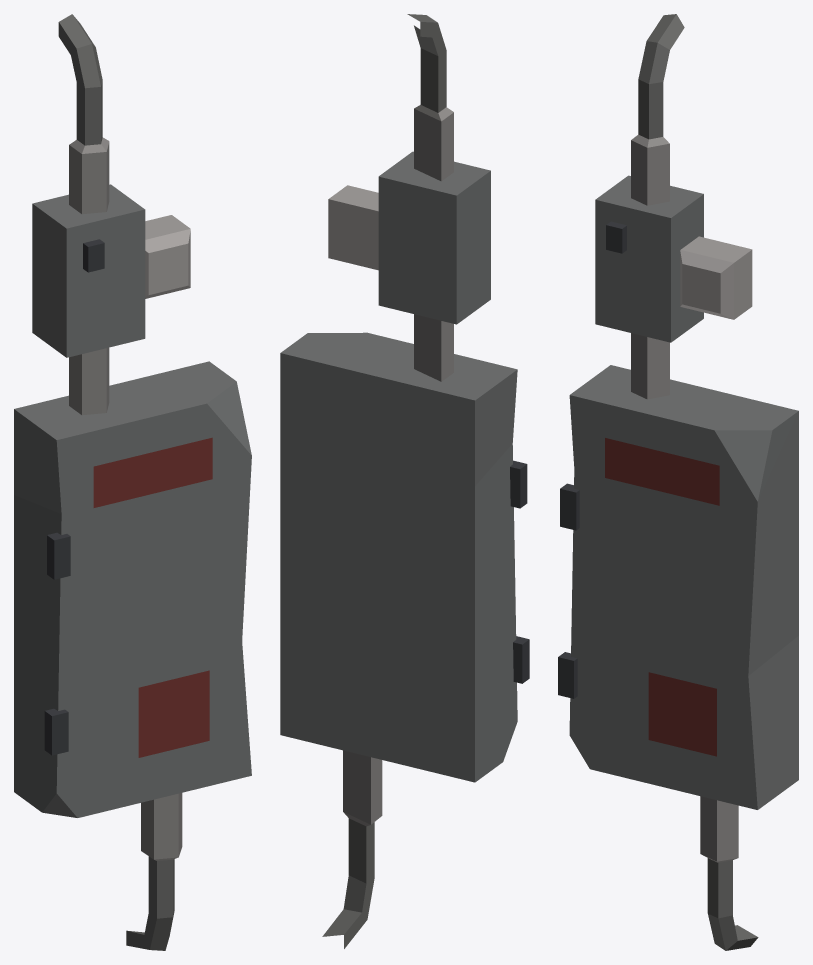
File: SM_Prop_PowerBox_01.glb
The picture shows the model from 3 angles, left to right: view 1: azimuth 30°, elevation 25°; view 2: azimuth 150°, elevation 25°; view 3: azimuth 330°, elevation 25°; orthographic projection. The views are drawn at different scales.
Visible parts, largest first — view 1: SM_Prop_PowerBox_01; view 2: SM_Prop_PowerBox_01; view 3: SM_Prop_PowerBox_01.
Part boxes in pixels (x1,y1,x2,y2): SM_Prop_PowerBox_01: [14, 14, 251, 950]; SM_Prop_PowerBox_01: [280, 14, 529, 948]; SM_Prop_PowerBox_01: [558, 14, 798, 950].
Bounding box in the file's own units: 0.3993 × 1.79 × 0.1901.
1 material, 1 textured.
